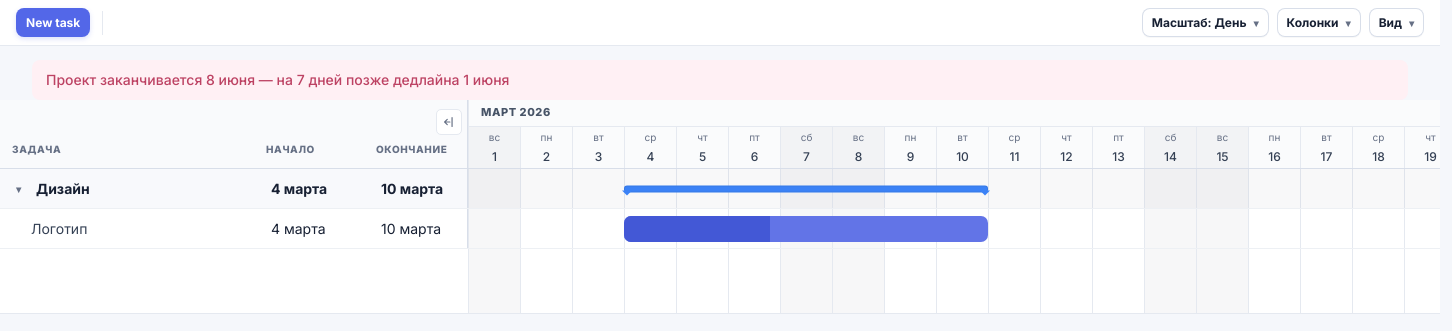
Test: диаграмма › меню масштаба называет текущий масштаб и меняет его
Click the button "Масштаб: День ▾": (1205, 22) top-left (1142, 8), bottom-right (1269, 37)
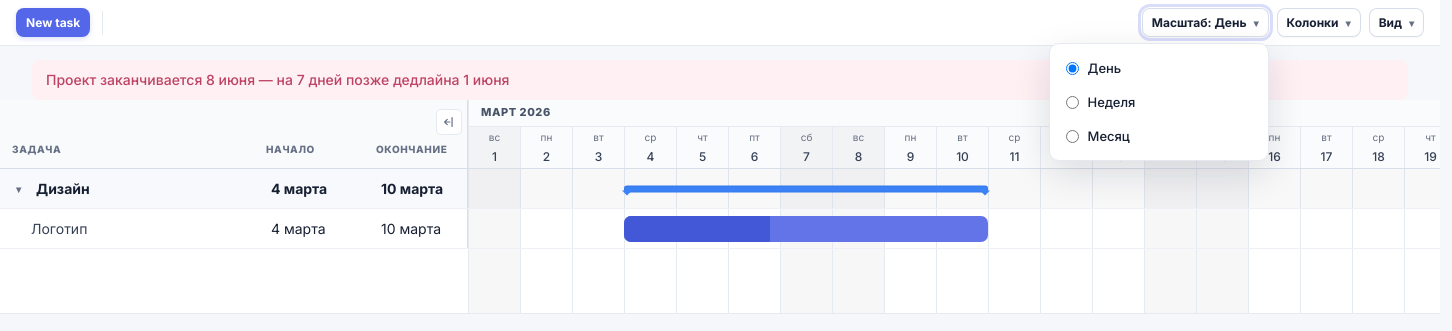
Click the radio button labelled "Месяц": (1072, 136) top-left (1066, 130), bottom-right (1078, 142)
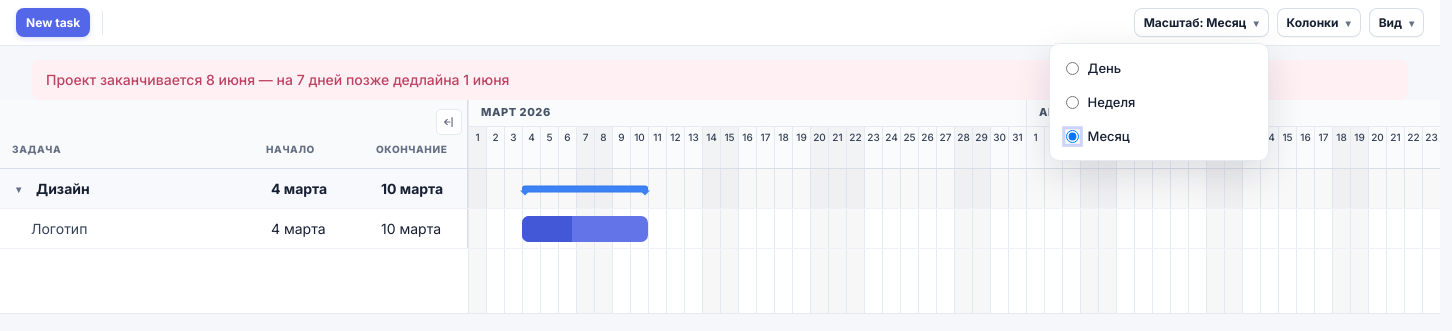
Now the button "Масштаб: Месяц ▾" is shown, box top-left (1134, 8), bottom-right (1268, 37)
